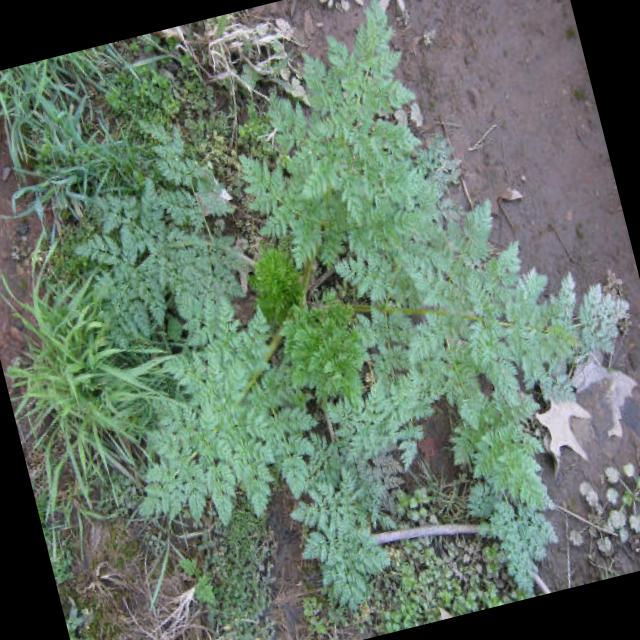Poisonous-Hemlock: (92, 100, 552, 514)
